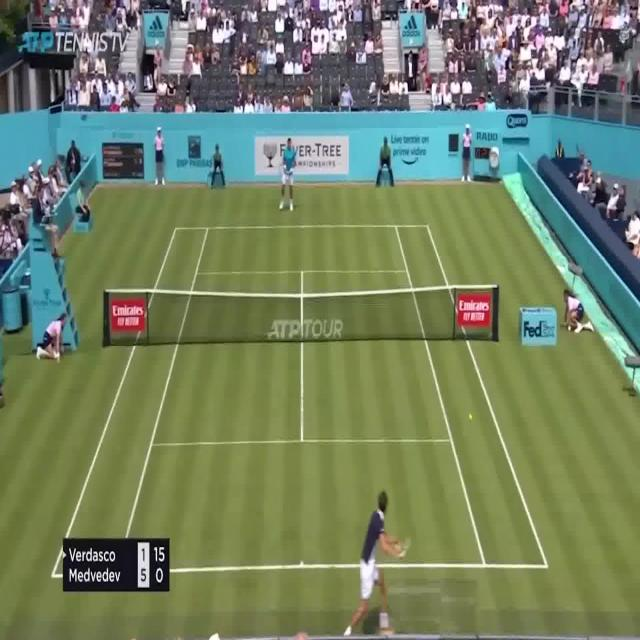bottom-dead-zone: (115, 442, 485, 575)
court: (51, 225, 549, 577)
left-doubles-alley: (52, 228, 208, 575)
left-service-box: (151, 271, 303, 444)
net: (102, 283, 500, 349)
right-doubles-alley: (395, 224, 549, 568)
right-service-box: (301, 271, 453, 441)
top-dead-zone: (196, 228, 408, 274)
